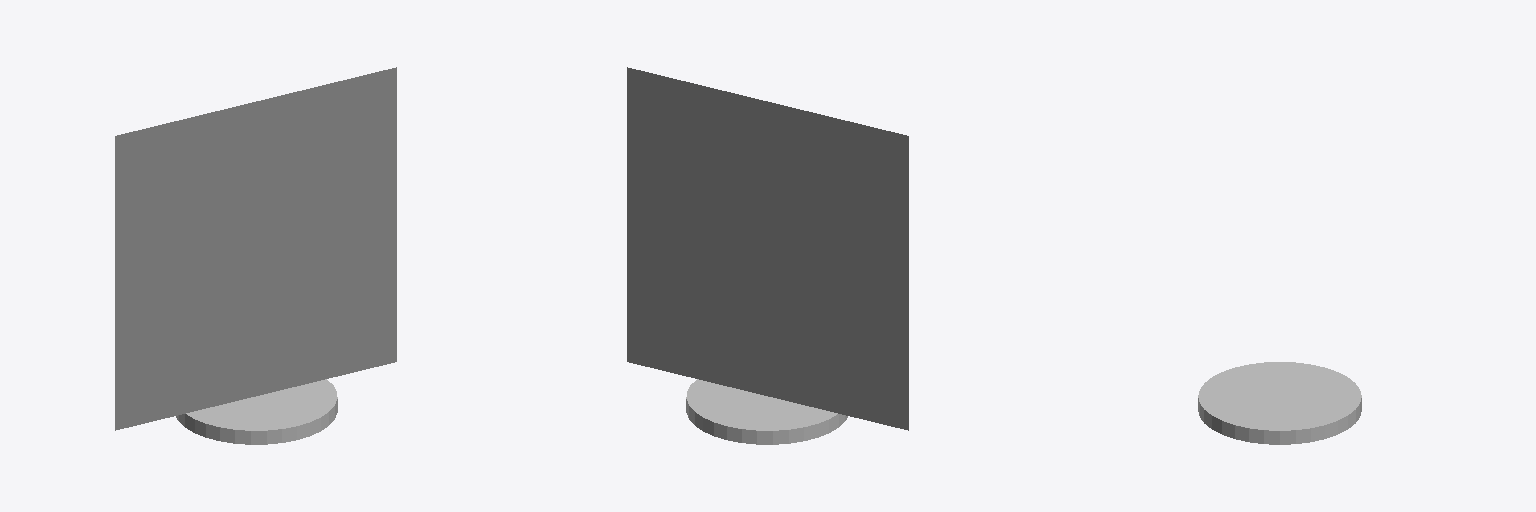
3 views of the same model, side by side, from view 1: azimuth 30°, elevation 25°; view 2: azimuth 150°, elevation 25°; view 3: azimuth 270°, elevation 25° (orthographic).
Visible parts, largest first — view 1: face, face-inv, base25m; view 2: face, face-inv, base25m; view 3: base25m.
Part boxes in pixels (left/top/right/bottom): face: left=115, top=67, right=396, bottom=430; face-inv: left=115, top=68, right=396, bottom=429; base25m: left=176, top=379, right=337, bottom=444; face: left=627, top=67, right=908, bottom=430; face-inv: left=627, top=68, right=908, bottom=429; base25m: left=686, top=379, right=847, bottom=444; base25m: left=1198, top=362, right=1361, bottom=444.
Size of the model in its own units: 1.86 by 1.95 by 0.9344.